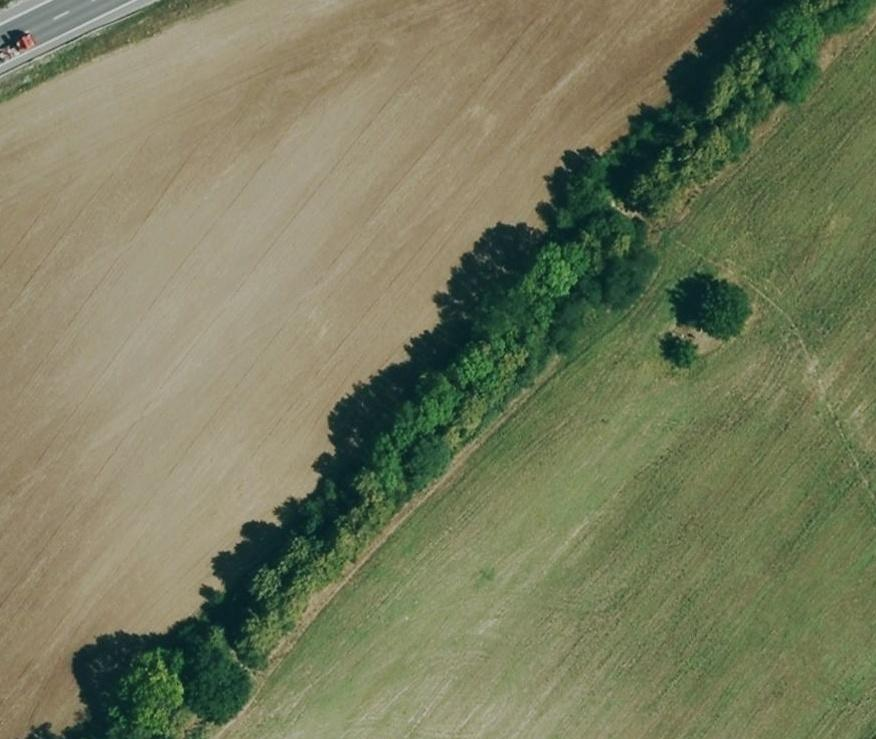field: (0, 2, 720, 737), (233, 31, 876, 737)
forest: (74, 0, 864, 737)
